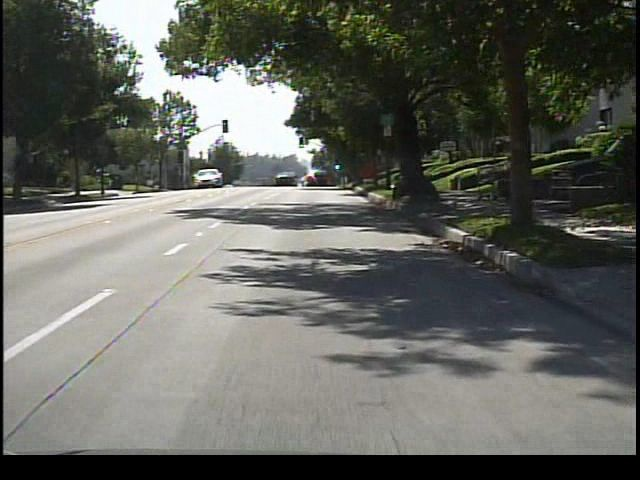person: (501, 148, 528, 201)
